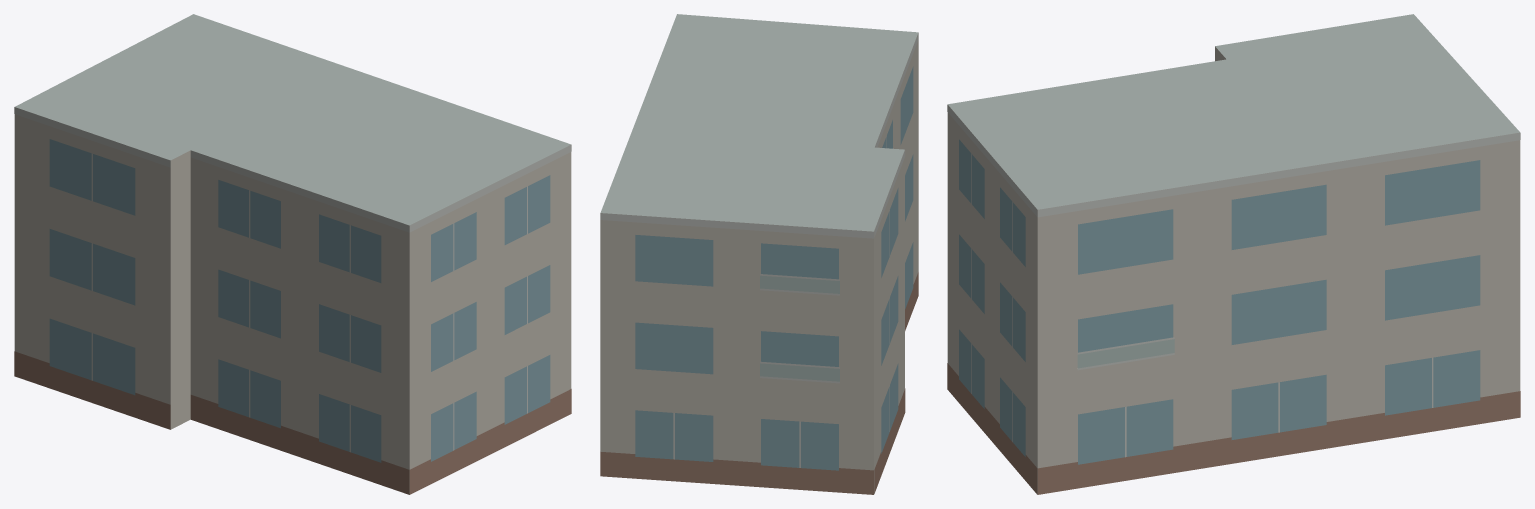
File: survey-upis-32690113.glb
3 views of the same model, side by side, from view 1: azimuth 30°, elevation 25°; view 2: azimuth 150°, elevation 25°; view 3: azimuth 270°, elevation 25° (orthographic). The views are drawn at different scales.
Visible parts, largest first — view 1: survey-upis-32690113.tmp; view 2: survey-upis-32690113.tmp; view 3: survey-upis-32690113.tmp.
Boxes of the visible parts, x1,y1,x2,y2 form: survey-upis-32690113.tmp: (14,14,571,494); survey-upis-32690113.tmp: (600,14,918,494); survey-upis-32690113.tmp: (947,14,1520,494).
Bounding box in the file's own units: 13.49 × 9.15 × 16.68.
